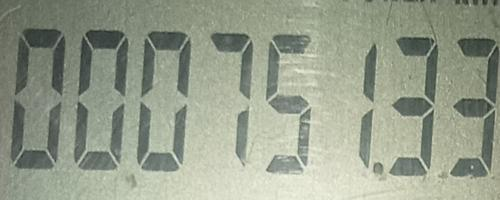.: (372, 161, 383, 180)
